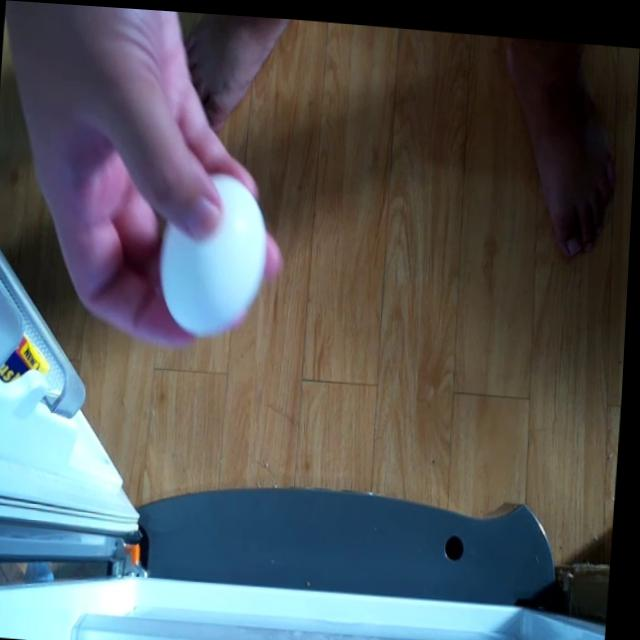egg: (160, 166, 277, 338)
